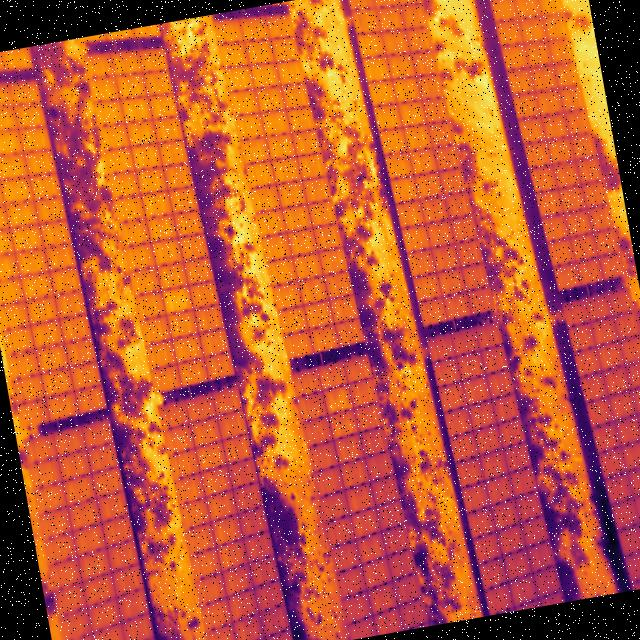Hotspot: (325, 386, 353, 413), (161, 286, 189, 312)
